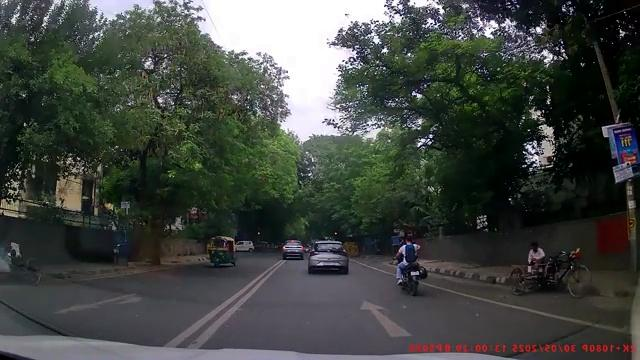motorcycle_without_helmet: (394, 233, 428, 297)
